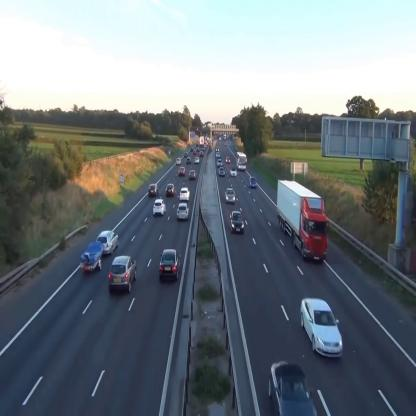car: (267, 362, 318, 416), (300, 298, 343, 361), (109, 254, 137, 294), (160, 248, 180, 281), (97, 230, 118, 254), (230, 210, 244, 233), (153, 198, 166, 216), (177, 202, 189, 220), (225, 188, 235, 204), (166, 183, 176, 196), (148, 184, 158, 196), (180, 188, 190, 200), (249, 175, 257, 188), (188, 170, 196, 180), (230, 168, 238, 178), (178, 166, 185, 176), (219, 166, 225, 176), (194, 156, 200, 164), (217, 158, 223, 166), (176, 157, 181, 165), (186, 156, 191, 164), (226, 156, 230, 163)
lorry: (277, 179, 329, 264), (236, 151, 246, 170)
